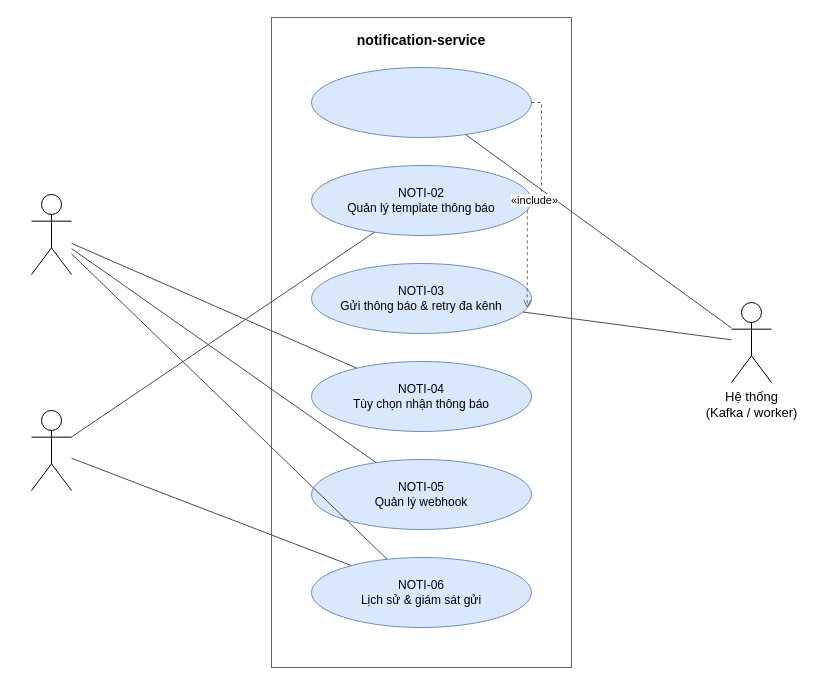
Some shapes in this 815 by 685 pixel diagram are drawn without their labels. Here are the shapes that lost their labels. From the top down, the box of each, then its label:
(310, 66, 532, 138): NOTI-01 Tiêu thụ sự kiện idempotent
(30, 194, 72, 274): Khách hàng
(30, 410, 72, 490): Admin
